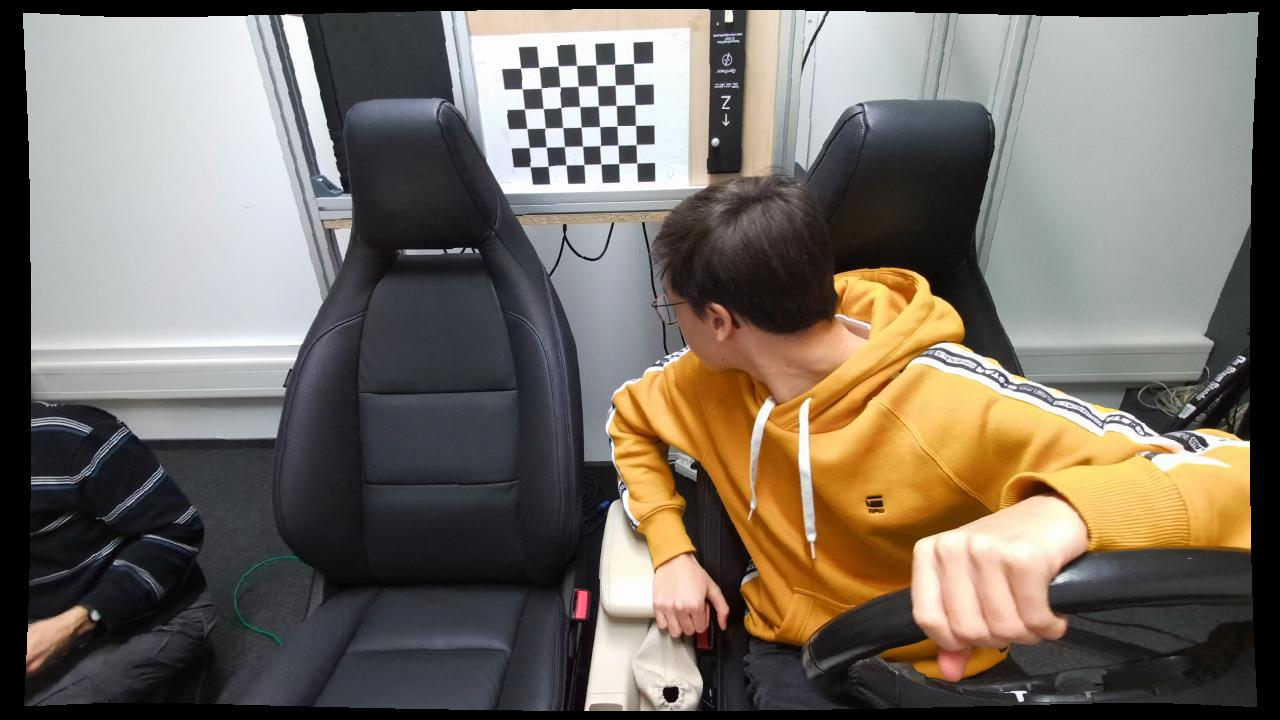Distracted: (603, 168, 1079, 715)
